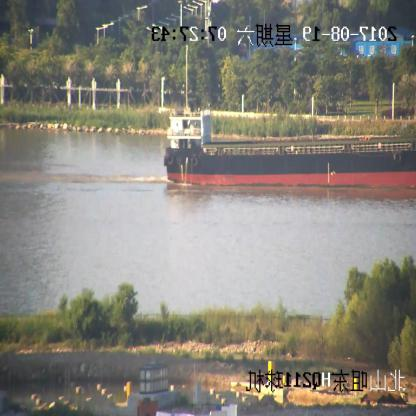Bulk Carrier: (162, 55, 415, 192)
